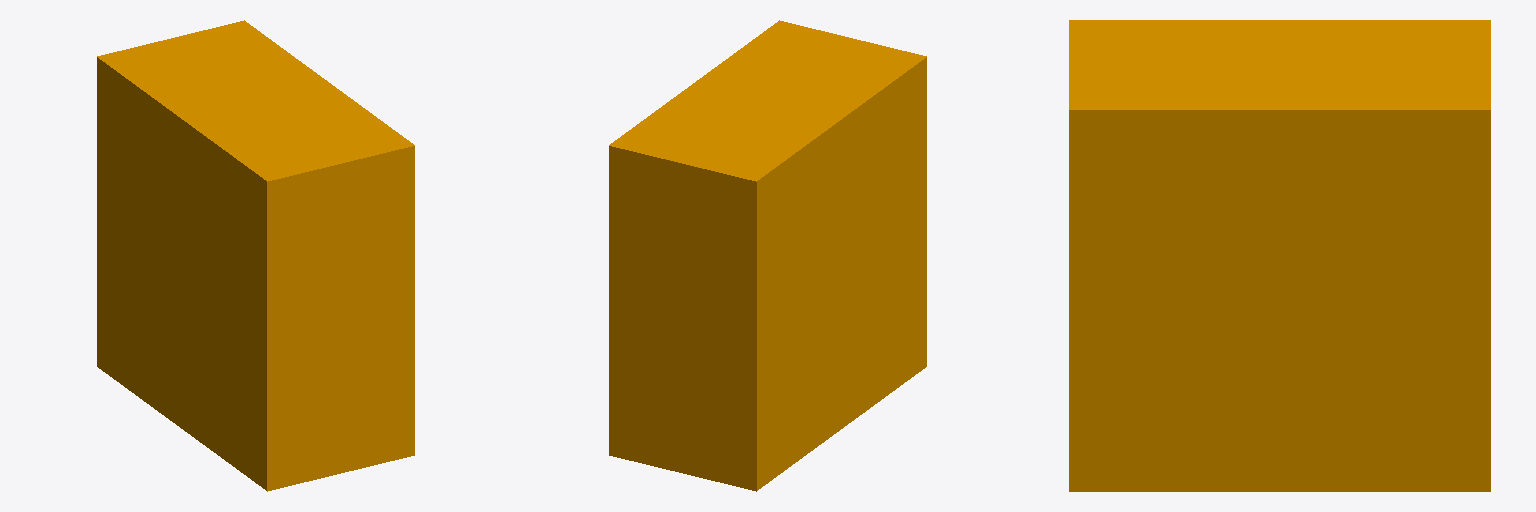
The robot description file, URDF, robot "box":
<?xml version="1.0"?>
<robot name="box">
  <link name="box">
    <inertial>
      <mass value="1"/>
      <!-- Inertia values were calculated to be consistent with the mass and
           geometry size, assuming a uniform density. -->
      <inertia ixx="0.0108" ixy="0" ixz="0" iyy="0.0083" iyz="0" izz="0.0042"/>
    </inertial>
    <visual>
      <geometry>
        <box size=".15 .3 .3"/>
      </geometry>
    </visual>
    <collision name="box">
      <geometry>
        <box size=".15 .3 .3"/>
      </geometry>
    </collision>
  </link>
</robot>

--- Render facts (derived) ---
Views: 3 orthographic renders of the robot side by side, from view 1: azimuth 30°, elevation 25°; view 2: azimuth 150°, elevation 25°; view 3: azimuth 270°, elevation 25°.
Robot: box — 1 links, 0 joints (none); root link box; default pose: all joints at 0.
Visible links, largest first — view 1: box; view 2: box; view 3: box.
Link boxes in pixels (x1,y1,x2,y2): box: (97, 20, 414, 491); box: (609, 20, 926, 491); box: (1069, 20, 1490, 491).
Bounding box of the posed robot: 0.15 × 0.3 × 0.3 m (x, y, z).
Geometry: primitives only (box / cylinder / sphere), no mesh files.